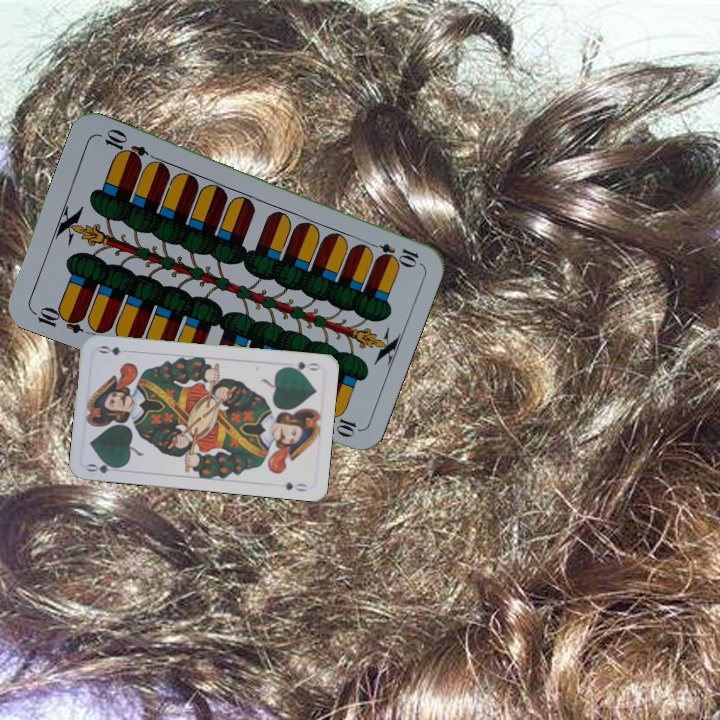E10: (28, 302, 87, 336), (363, 238, 421, 268)
GO: (83, 457, 124, 476), (282, 357, 323, 374)
